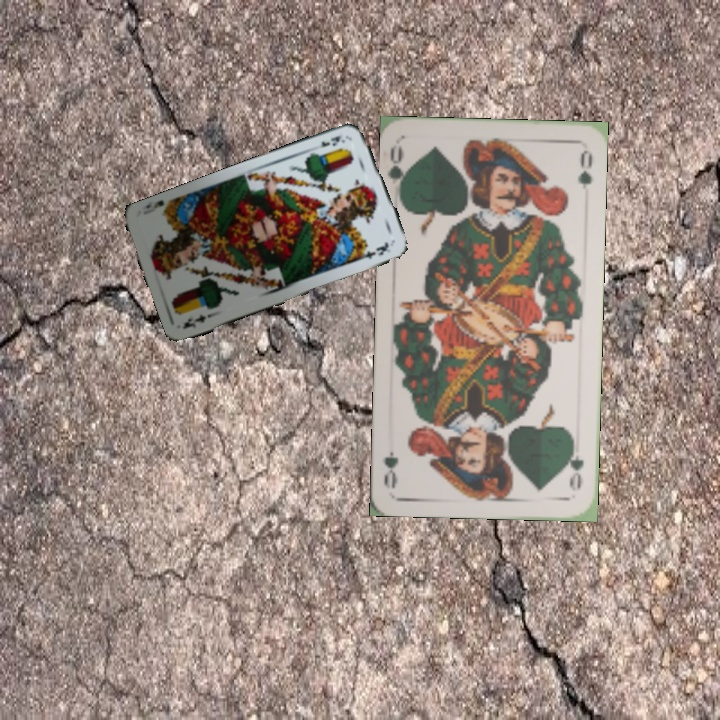EK: (179, 309, 217, 332), (317, 132, 348, 150)
GO: (385, 141, 413, 200), (564, 436, 587, 494)
